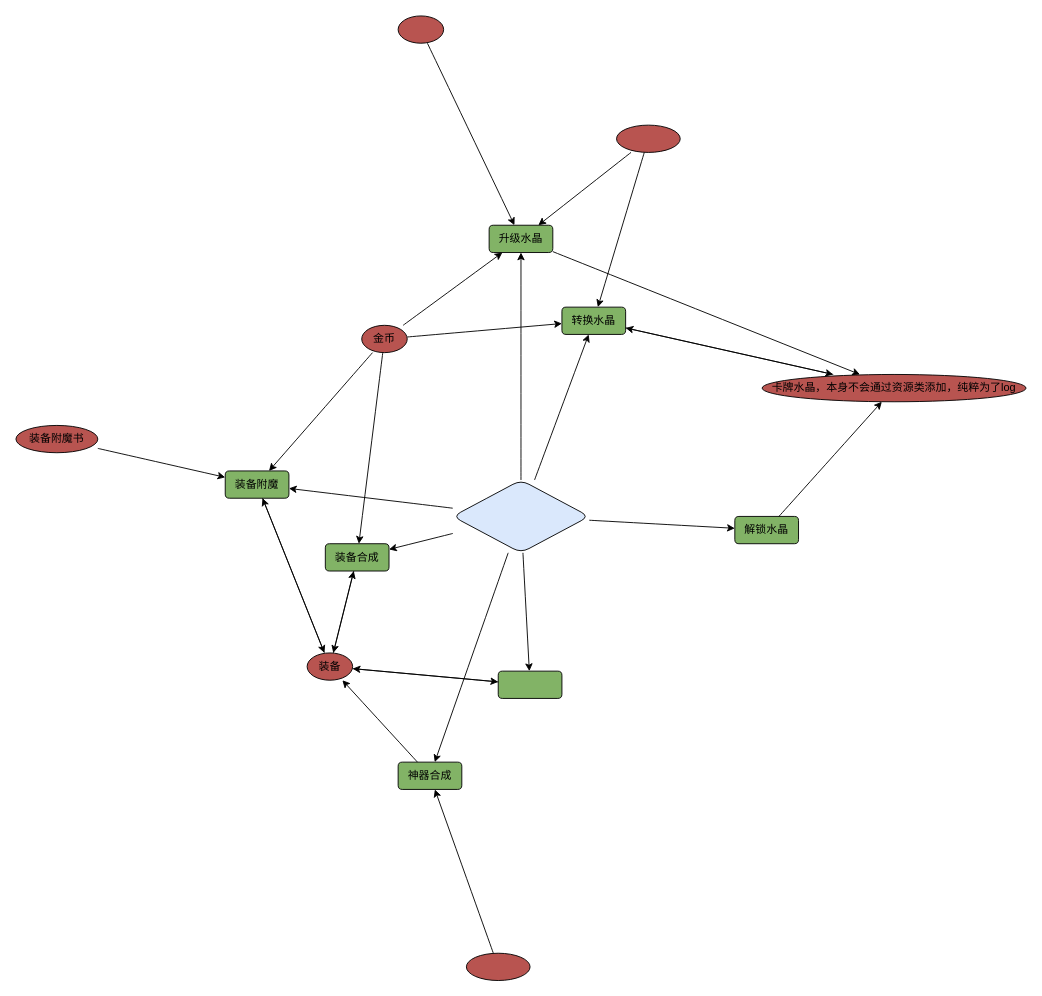
This 1042x996 diagram has some shape labels left out. The centre of each missing label's shape, as x and y in pixels:
"时光之沙" belongs at point 648,138.
"神器升级" belongs at point 529,684.
"神器碎片" belongs at point 497,966.
"装备系统" belongs at point 520,516.
"钻石" belongs at point 420,29.
